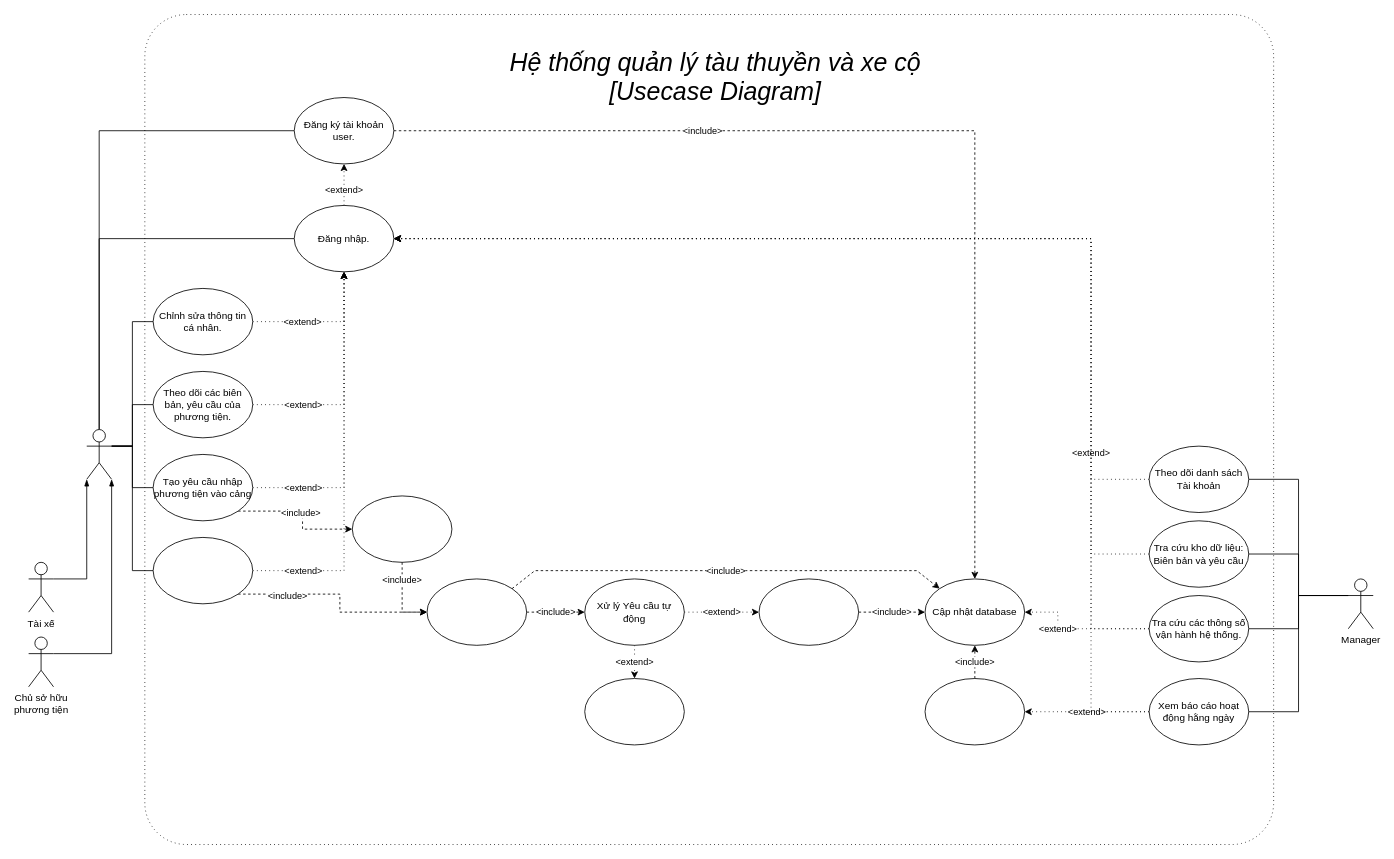
Image size: 1394x859. Some labels were removed from this diagram. Here are the shapes that lost their labels. From the top down, the box of each, then its label:
(86, 429, 112, 479): User/Customer
(352, 495, 452, 562): Yêu cầu kê khai thông tin
(152, 537, 253, 604): Tạo yêu cầu xuất phương tiện khỏi cảng
(426, 578, 527, 645): Tạo yêu cầu
(758, 578, 859, 645): Tạo biên bản
(584, 678, 684, 745): Từ chối yêu cầu
(924, 678, 1025, 745): Tạo báo cáo hoạt động hằng ngày
